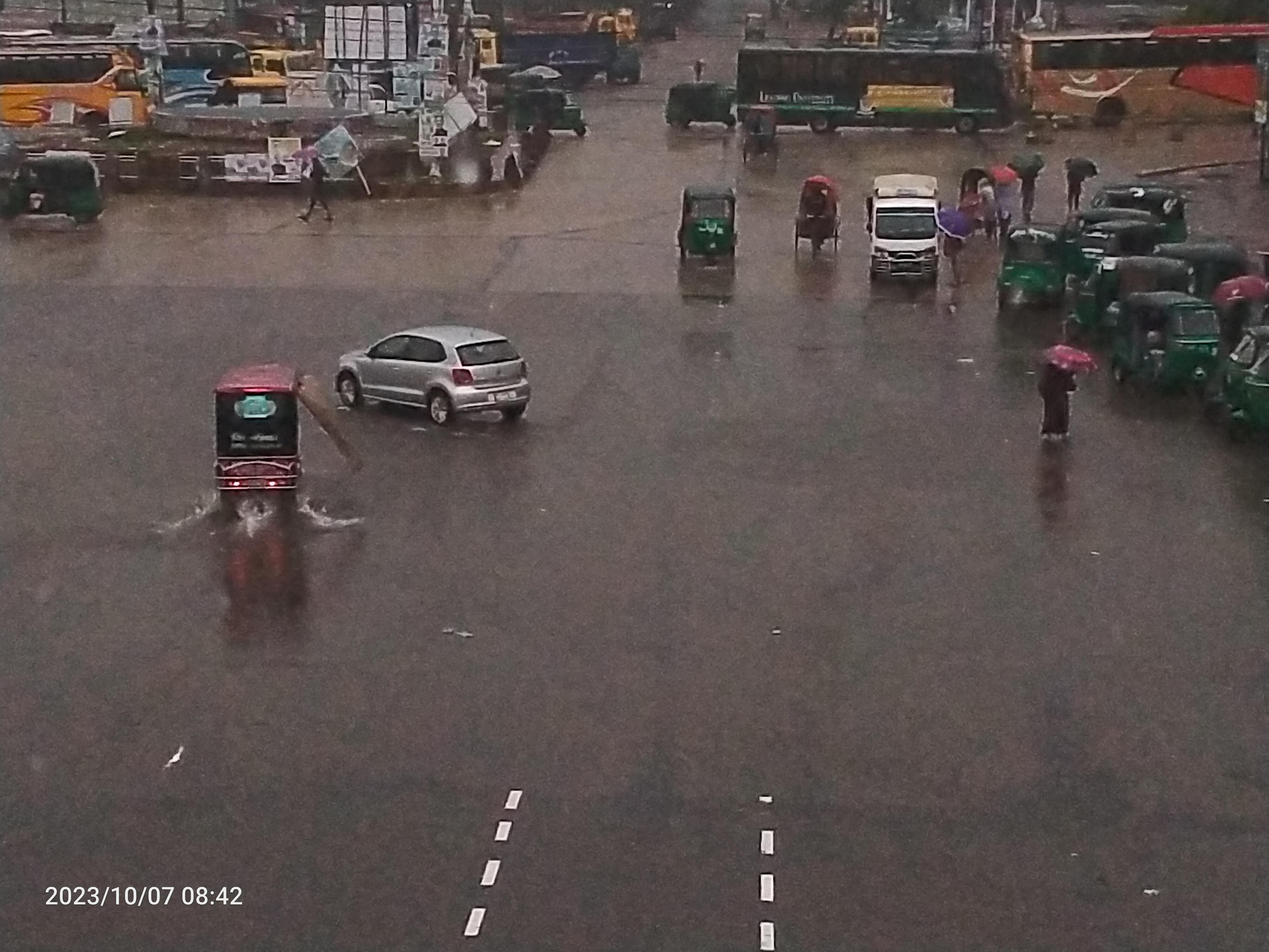Bus: (718, 18, 1038, 160), (1000, 3, 1269, 148), (0, 7, 166, 152), (136, 15, 269, 124)
Car: (325, 294, 550, 447), (187, 341, 337, 535), (851, 148, 959, 317), (778, 164, 849, 272), (733, 92, 795, 181)
